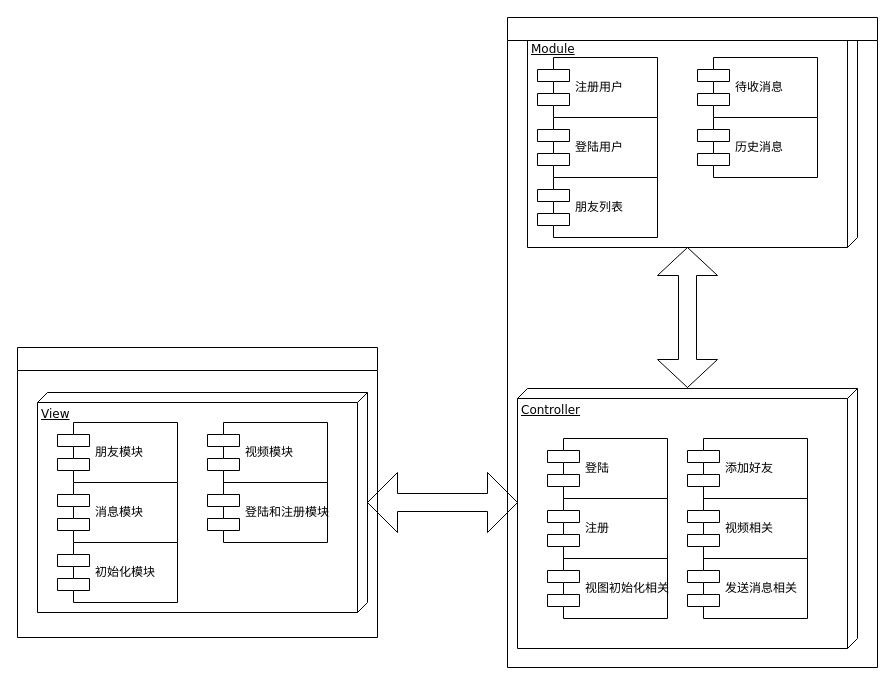
Image size: 895x685. Some labels were removed from this diagram. The centre of each missing label's shape, as x and y in pixels:
"前端" goes at (197,492).
"后端" goes at (692,342).
